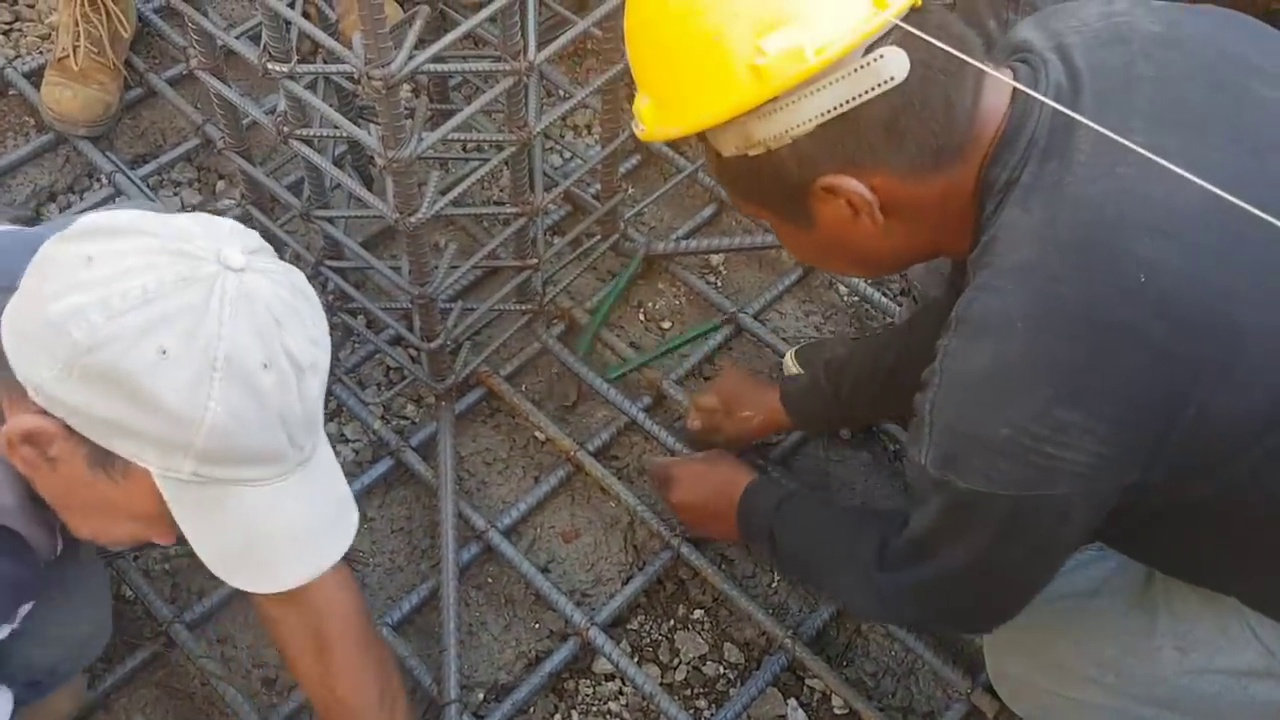helmet: (618, 0, 921, 166)
helmet-off: (2, 208, 358, 587)
helmet-on: (617, 0, 1035, 261)
person: (614, 1, 1280, 710), (0, 196, 426, 720)
